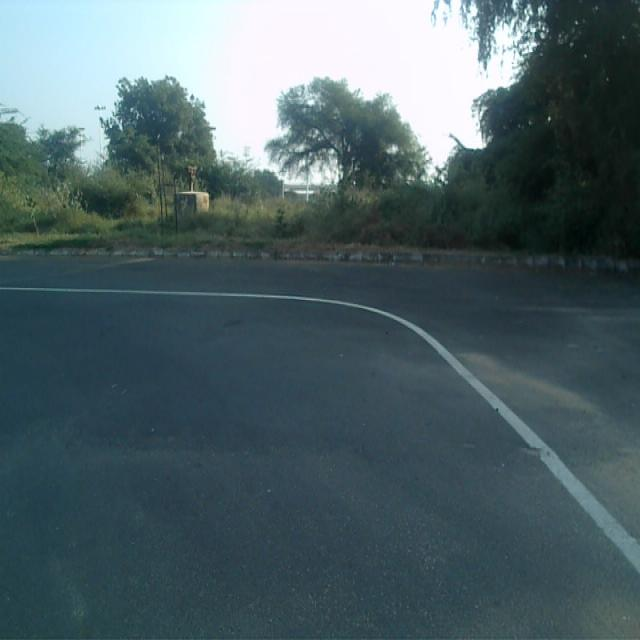lane: (0, 293, 640, 640)
